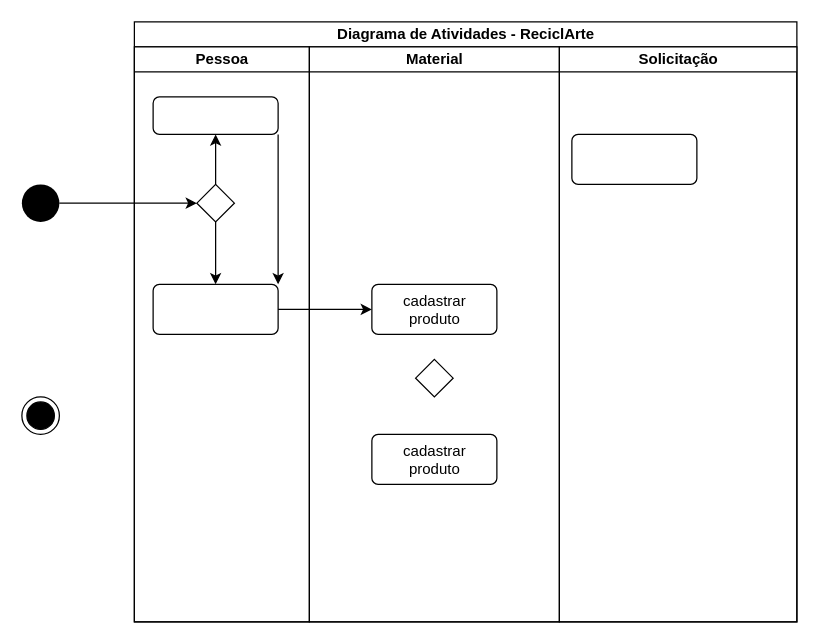
Some shapes in this 819 by 644 pixel diagram are drawn without their labels. Here are the shapes that lost their labels. From the top down, the centre of each, then its label:
At [215,115]: "cadastrar".
At [634,158]: "Action1".
At [215,308]: "efetuar login".
